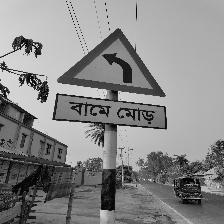Left-Turn: (54, 29, 168, 131)
